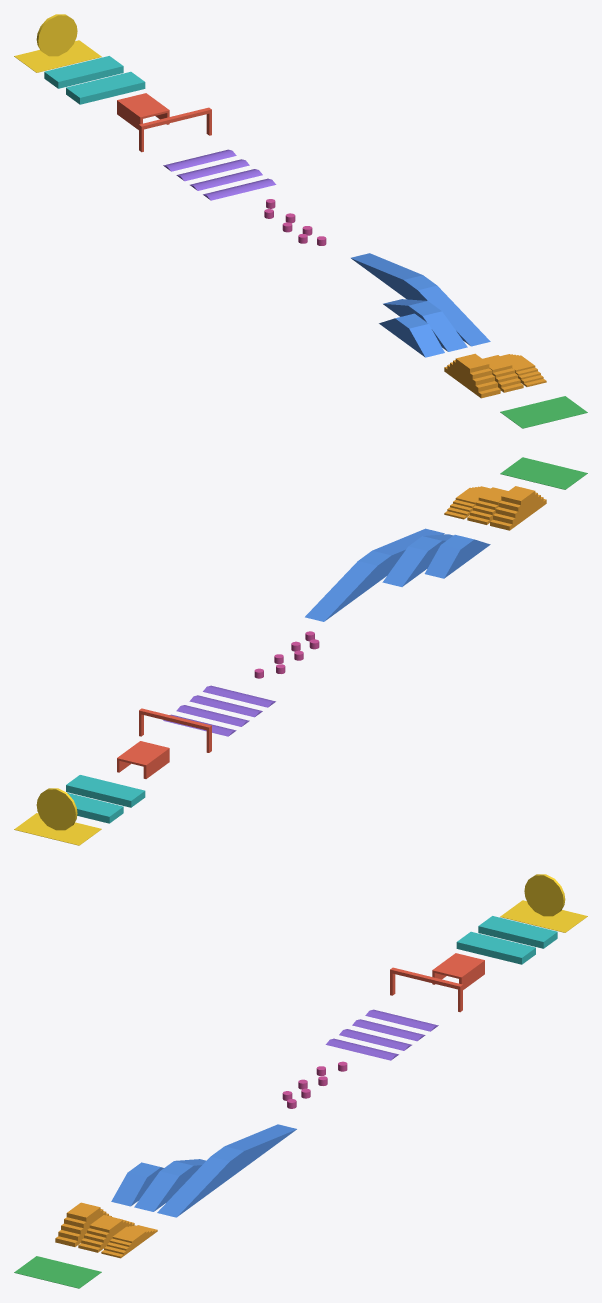
The model's file is obstacle_course.glb.
3 views of the same model, one above another, from view 1: azimuth 30°, elevation 25°; view 2: azimuth 150°, elevation 25°; view 3: azimuth 330°, elevation 25° (orthographic).
Parts seen in each view (by area): view 1: Ramp_a, Ramp_b, StartPad, Stairs_c, PlatformNear, PlatformFar, Ramp_c, FinishRing, FinishPad, Tunnel, Stairs_b, Stairs_a (+5 smaller); view 2: Ramp_a, Ramp_b, StartPad, Stairs_c, PlatformNear, Ramp_c, FinishRing, Tunnel, FinishPad, PlatformFar, Stairs_b, Stairs_a (+4 smaller); view 3: Ramp_a, Ramp_b, StartPad, PlatformNear, PlatformFar, FinishRing, FinishPad, Stairs_c, Ramp_c, Tunnel, Stairs_b, Stairs_a (+5 smaller).
Boxes of the visible parts, x1=… form: Ramp_a: x1=351, y1=253, x2=490, y2=346; Ramp_b: x1=383, y1=299, x2=467, y2=351; StartPad: x1=500, y1=396, x2=587, y2=428; Stairs_c: x1=444, y1=353, x2=500, y2=398; PlatformNear: x1=66, y1=71, x2=145, y2=104; PlatformFar: x1=44, y1=56, x2=123, y2=88; Ramp_c: x1=379, y1=313, x2=444, y2=357; FinishRing: x1=36, y1=14, x2=77, y2=56; FinishPad: x1=14, y1=40, x2=101, y2=72; Tunnel: x1=117, y1=93, x2=169, y2=129; Stairs_b: x1=482, y1=355, x2=523, y2=392; Stairs_a: x1=500, y1=354, x2=546, y2=386; Ramp_a: x1=305, y1=528, x2=444, y2=621; Ramp_b: x1=382, y1=534, x2=453, y2=586; StartPad: x1=500, y1=457, x2=587, y2=489; Stairs_c: x1=490, y1=486, x2=546, y2=530; PlatformNear: x1=66, y1=775, x2=145, y2=807; Ramp_c: x1=424, y1=534, x2=490, y2=578; FinishRing: x1=36, y1=788, x2=77, y2=830; Tunnel: x1=117, y1=741, x2=169, y2=778; FinishPad: x1=14, y1=813, x2=101, y2=845; PlatformFar: x1=67, y1=792, x2=123, y2=823; Stairs_b: x1=467, y1=487, x2=508, y2=524; Stairs_a: x1=444, y1=486, x2=490, y2=519; Ramp_a: x1=157, y1=1124, x2=296, y2=1217; Ramp_b: x1=134, y1=1159, x2=205, y2=1211; StartPad: x1=14, y1=1256, x2=101, y2=1288; PlatformNear: x1=456, y1=931, x2=535, y2=964; PlatformFar: x1=478, y1=916, x2=557, y2=948; FinishRing: x1=524, y1=874, x2=565, y2=916; FinishPad: x1=500, y1=900, x2=587, y2=932; Stairs_c: x1=55, y1=1202, x2=111, y2=1246; Ramp_c: x1=111, y1=1162, x2=163, y2=1206; Tunnel: x1=432, y1=953, x2=484, y2=989; Stairs_b: x1=78, y1=1215, x2=134, y2=1252; Stairs_a: x1=101, y1=1225, x2=157, y2=1258.
Bounding box in the file's own units: 4.3 × 2.42 × 53.94.
